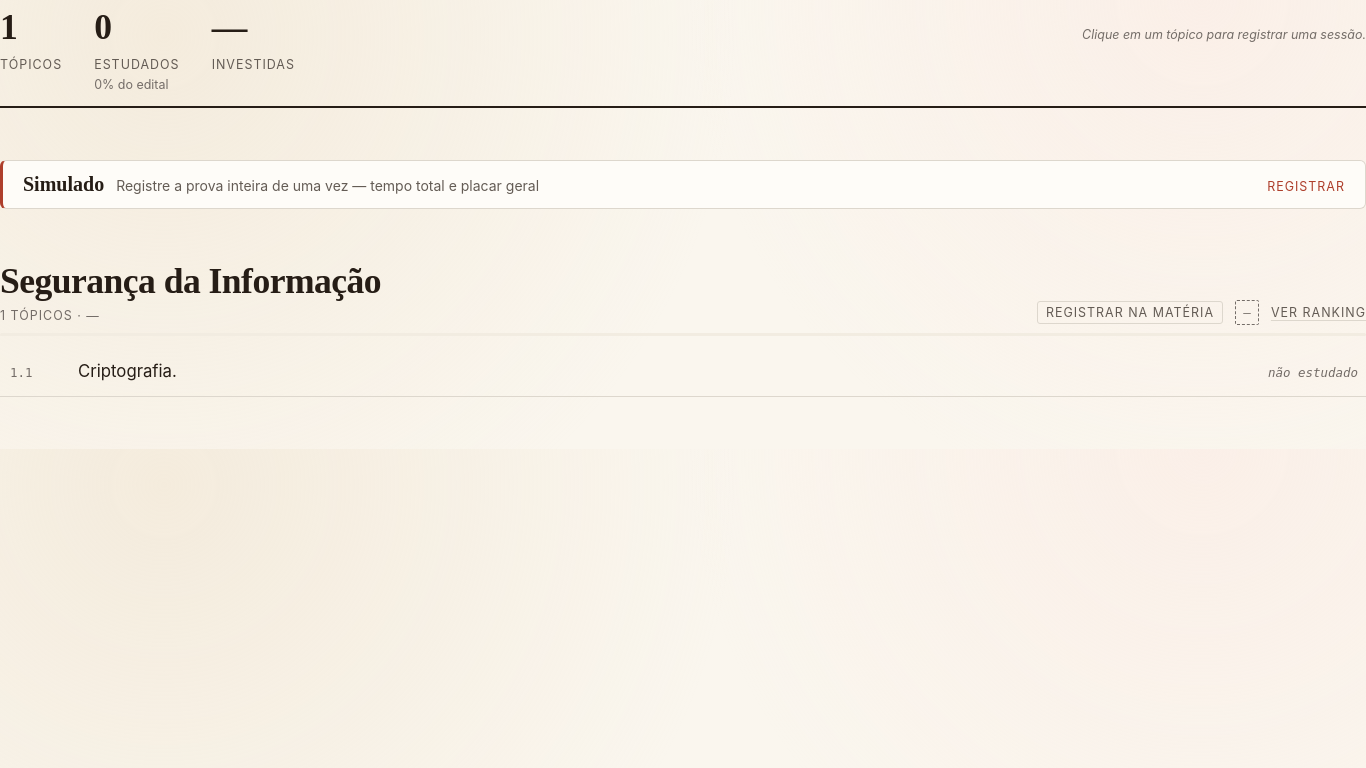
it: os três níveis de registro › cada painel aberto vive na URL
Step 1. Click the button "registrar na matéria" → x=1130, y=312, box [1037,301,1223,324]
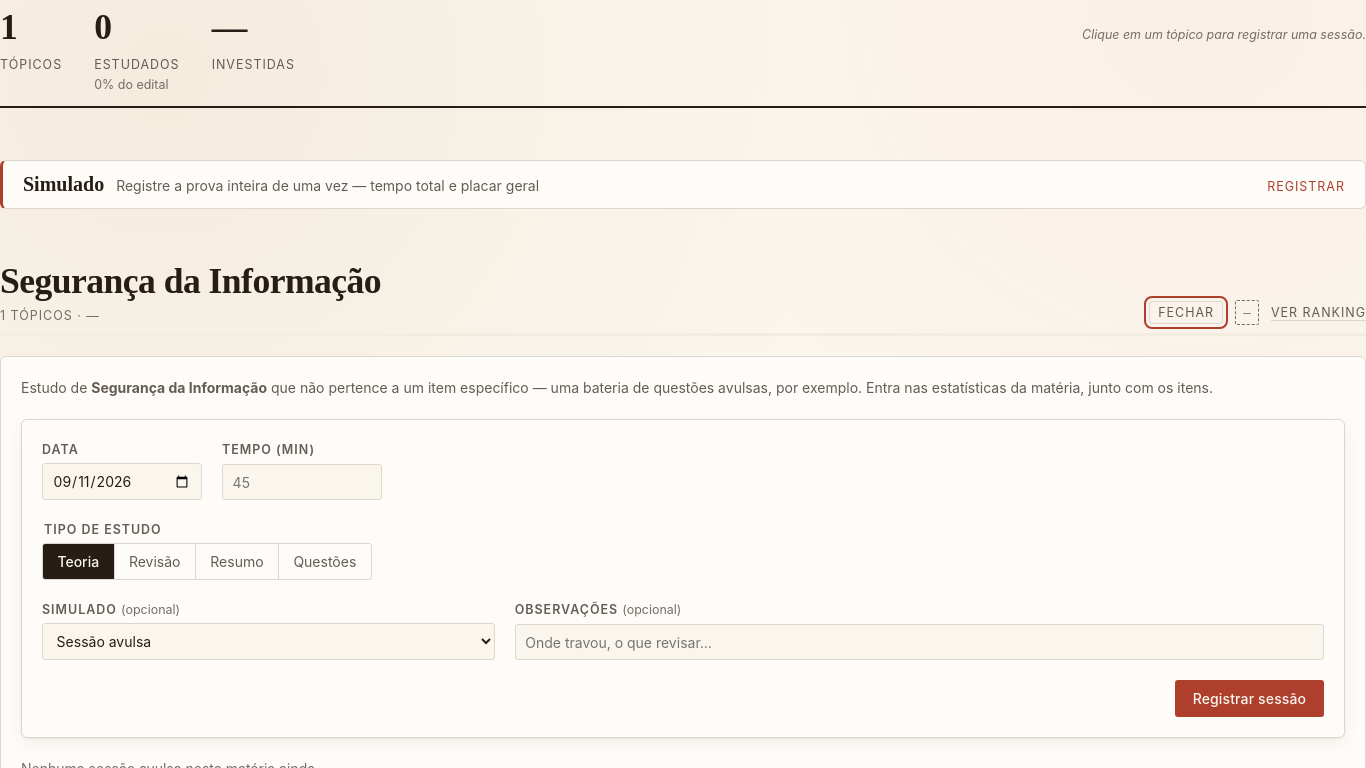
Step 2. Click the button "Simulado" → x=64, y=184, box [3,161,1365,208]
(page scrolled)
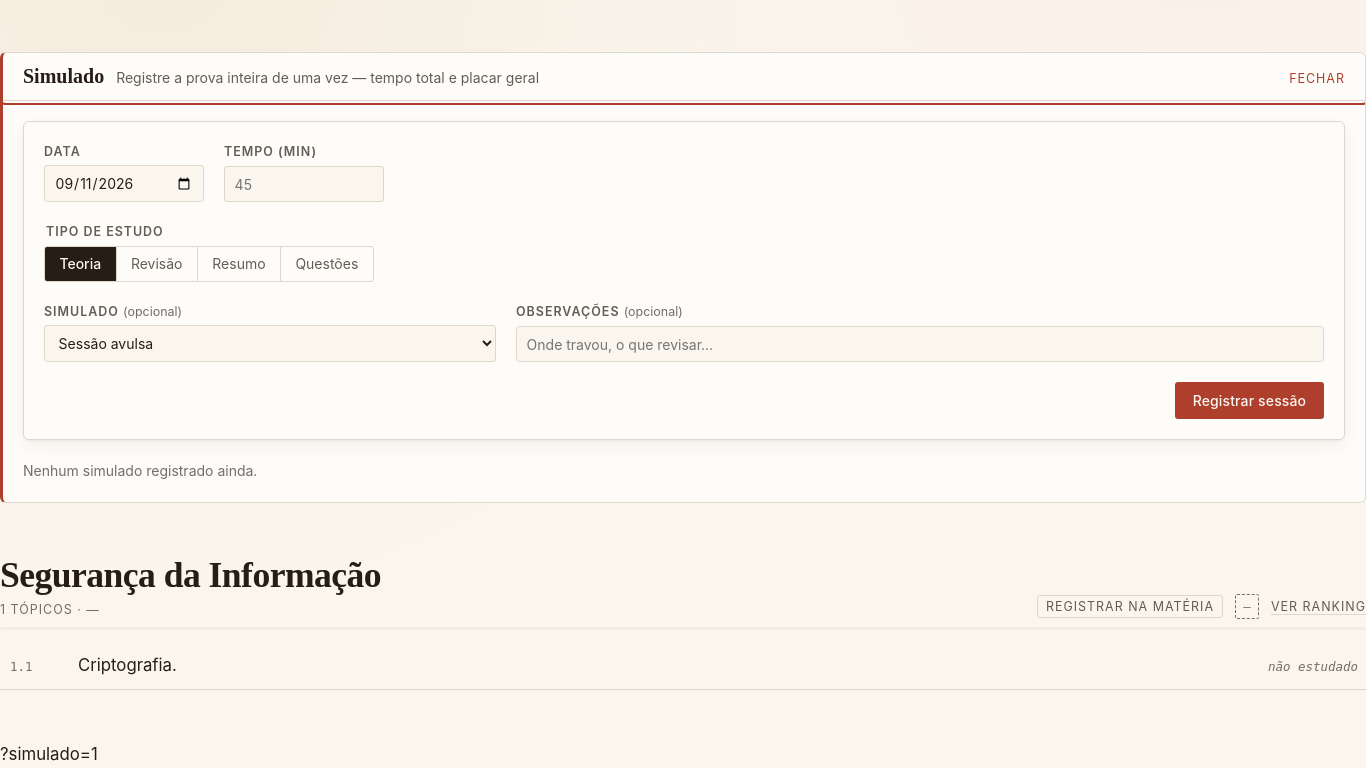
Expected: the text with test id "url" shows "simulado=1", [0,744,98,764]
